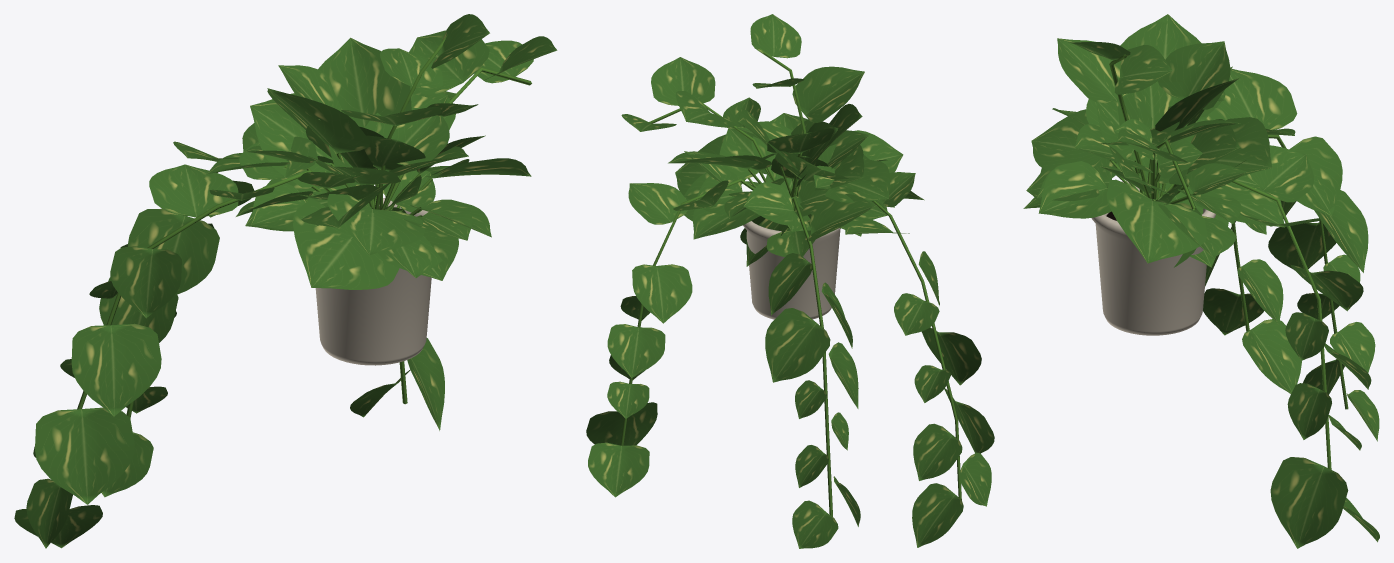
The model's file is shelf-plant.glb.
The picture shows the model from 3 angles, left to right: view 1: azimuth 30°, elevation 25°; view 2: azimuth 150°, elevation 25°; view 3: azimuth 270°, elevation 25°; orthographic projection. The views are drawn at different scales.
Parts seen in each view (by area): view 1: shelf_plant_leaves, shelf_plant_pot; view 2: shelf_plant_leaves, shelf_plant_pot; view 3: shelf_plant_leaves, shelf_plant_pot.
Boxes of the visible parts, left/top/right/bottom form: shelf_plant_leaves: left=14, top=14, right=557, bottom=548; shelf_plant_pot: left=315, top=198, right=431, bottom=365; shelf_plant_leaves: left=586, top=14, right=994, bottom=548; shelf_plant_pot: left=743, top=221, right=840, bottom=319; shelf_plant_leaves: left=1023, top=14, right=1379, bottom=548; shelf_plant_pot: left=1091, top=180, right=1215, bottom=335.
Size of the model in its own units: 0.3807 by 0.3966 by 0.2578.
4 materials, 1 textured.
